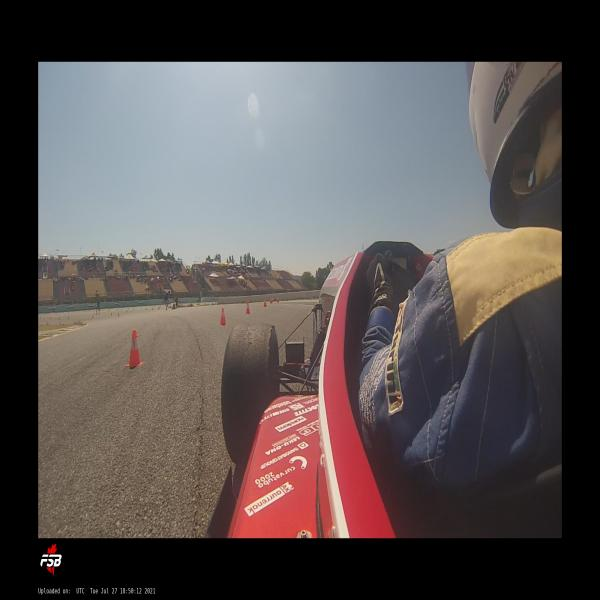orange_cone: (126, 330, 144, 368), (219, 308, 227, 326), (246, 301, 251, 314), (264, 299, 267, 306), (271, 297, 273, 303), (277, 297, 279, 302), (257, 298, 258, 302)
